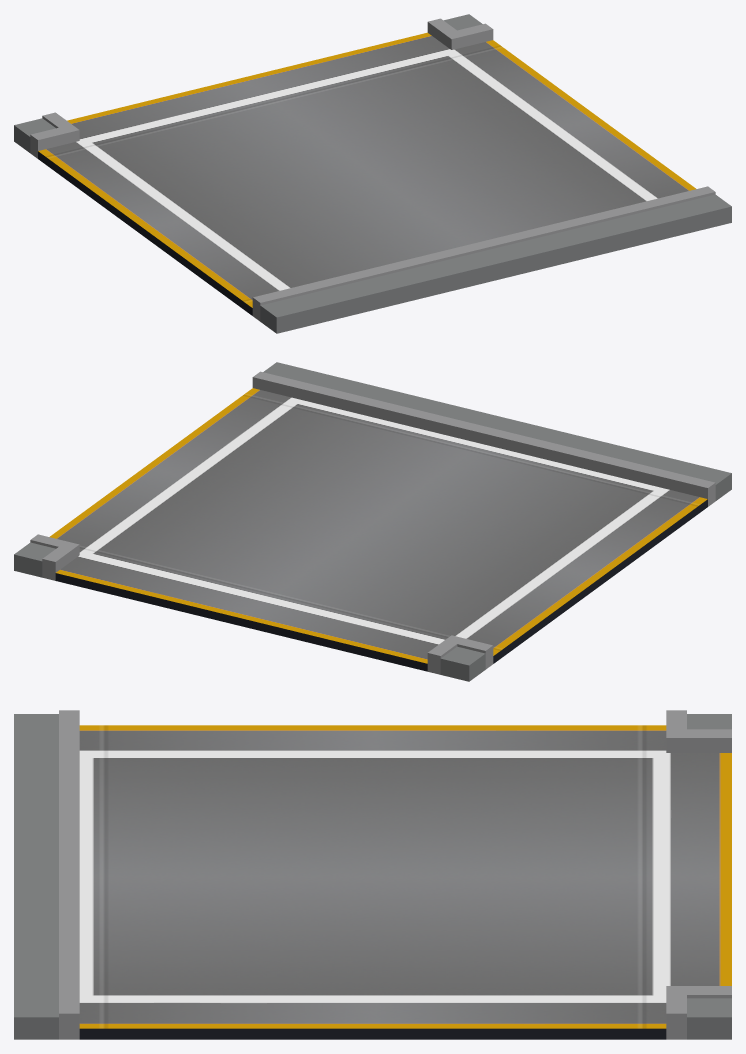
Rendered from Road2_T.dae.
3 renders of one model, top to bottom at view 1: azimuth 30°, elevation 25°; view 2: azimuth 150°, elevation 25°; view 3: azimuth 270°, elevation 25°, orthographic. The views are drawn at different scales.
Visible parts, largest first — view 1: Road2_T; view 2: Road2_T; view 3: Road2_T.
Boxes of the visible parts, bbox=[...] form: Road2_T: bbox=[14, 14, 731, 333]; Road2_T: bbox=[14, 362, 731, 681]; Road2_T: bbox=[14, 710, 731, 1039].
Size of the model in its own units: 12 by 12 by 0.4754.
1 material, 1 textured.
